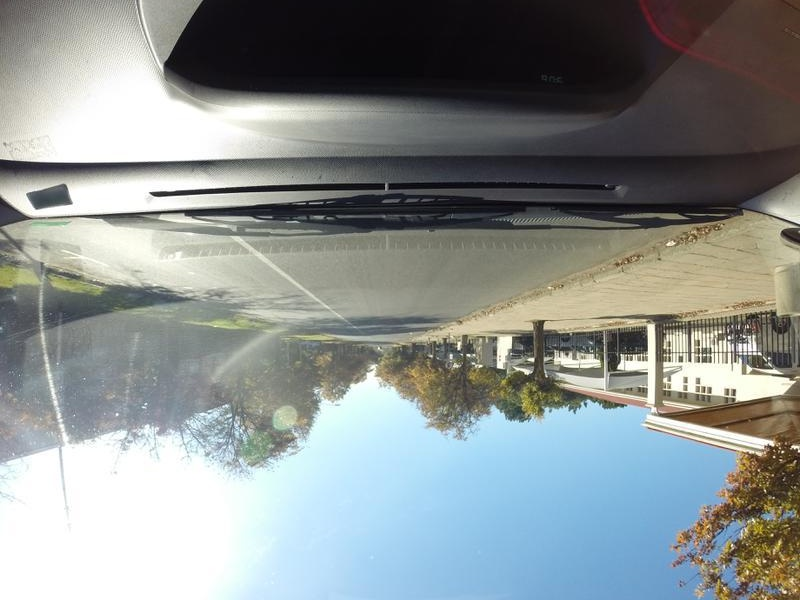pothole: (204, 285, 236, 298)
